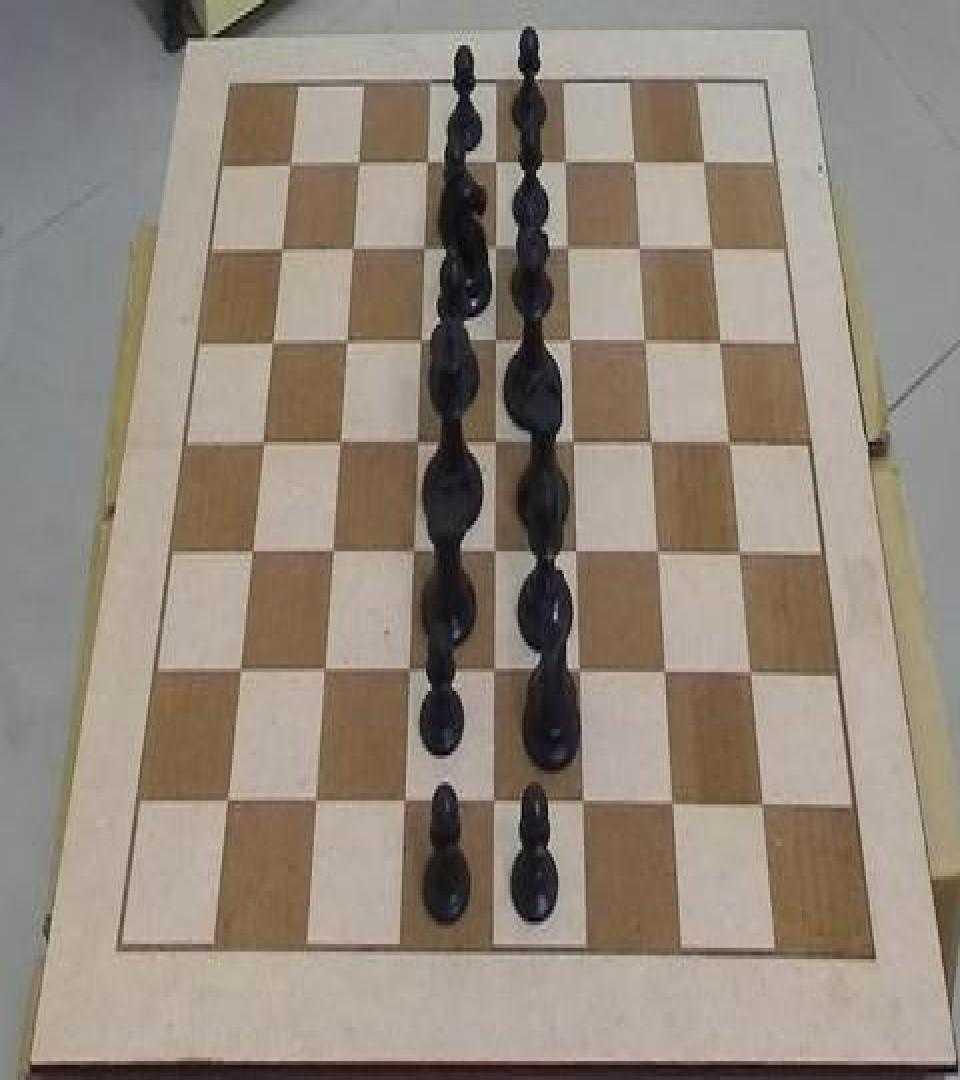xcorner: (695, 144, 715, 182), (625, 146, 645, 184), (556, 146, 576, 184), (486, 146, 506, 184), (417, 146, 437, 184), (348, 146, 368, 184), (279, 146, 299, 184), (703, 230, 723, 268), (631, 230, 651, 268), (558, 230, 578, 268), (486, 230, 506, 268), (414, 230, 434, 268), (342, 232, 362, 270), (270, 232, 290, 270), (712, 322, 732, 360), (636, 322, 656, 360), (561, 322, 581, 360), (485, 324, 505, 362), (410, 324, 430, 362), (336, 324, 356, 362), (261, 324, 281, 362), (721, 424, 741, 462), (642, 424, 662, 462), (563, 424, 583, 462), (485, 424, 505, 462), (407, 424, 427, 462), (329, 424, 349, 462), (251, 424, 271, 462), (731, 536, 751, 574), (649, 534, 669, 572), (567, 534, 587, 572), (485, 534, 505, 572), (403, 534, 423, 572), (321, 534, 341, 572), (240, 534, 260, 572), (742, 657, 762, 695), (656, 655, 676, 693), (570, 655, 590, 693), (484, 655, 504, 693), (399, 653, 419, 691), (313, 653, 333, 691), (228, 653, 248, 691), (755, 789, 775, 827), (664, 787, 684, 825), (573, 787, 593, 825), (483, 787, 503, 825), (394, 786, 414, 824), (304, 786, 324, 824), (215, 784, 235, 822)
